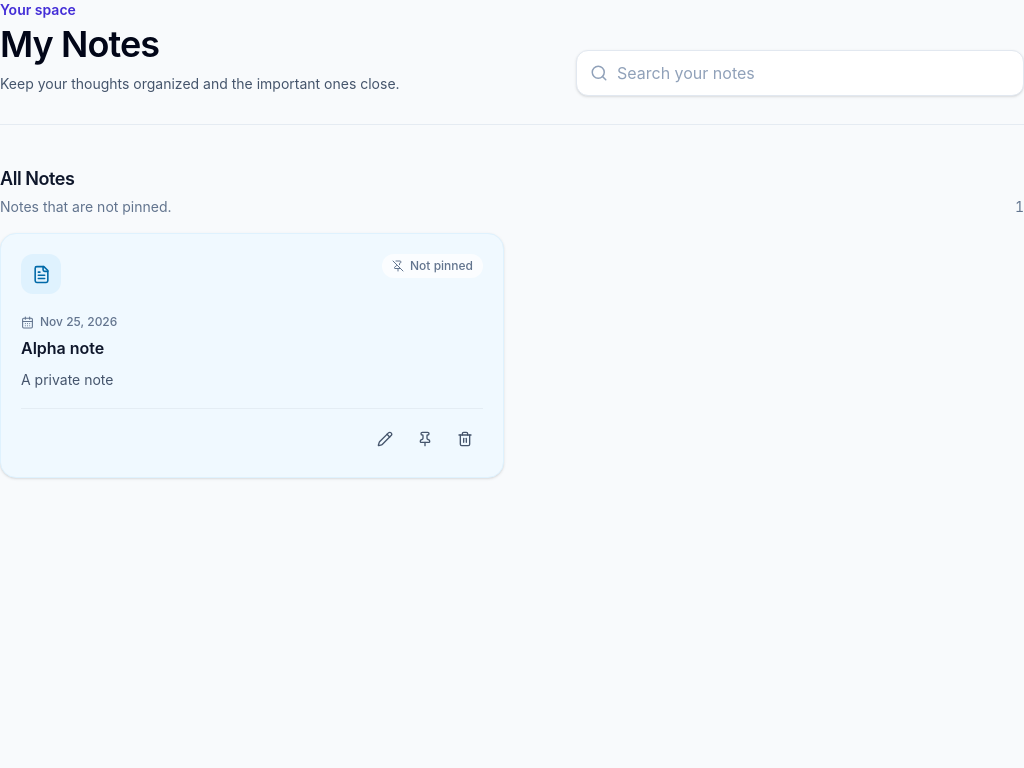
Test: Dashboard › keeps a note visible and reports a failed deletion
The image size is (1024, 768).
Click the button named "Delete Alpha note" at [465, 439], box [447,421,483,457]
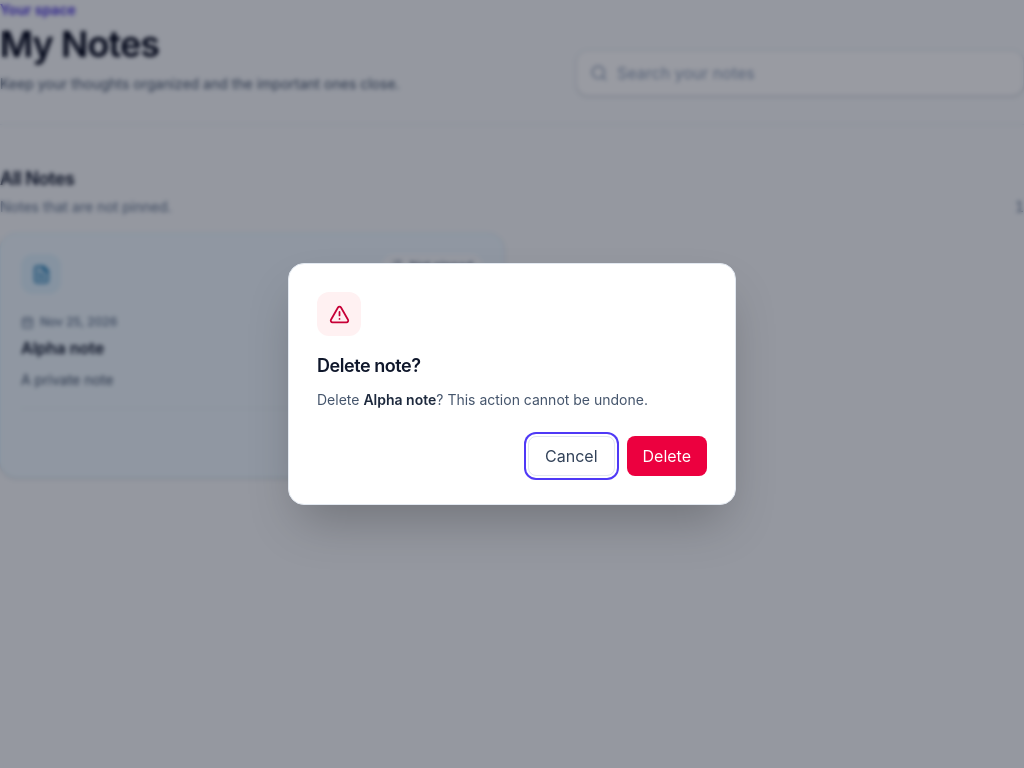
Click the button "Delete" at [667, 456], box [626,436,707,476]
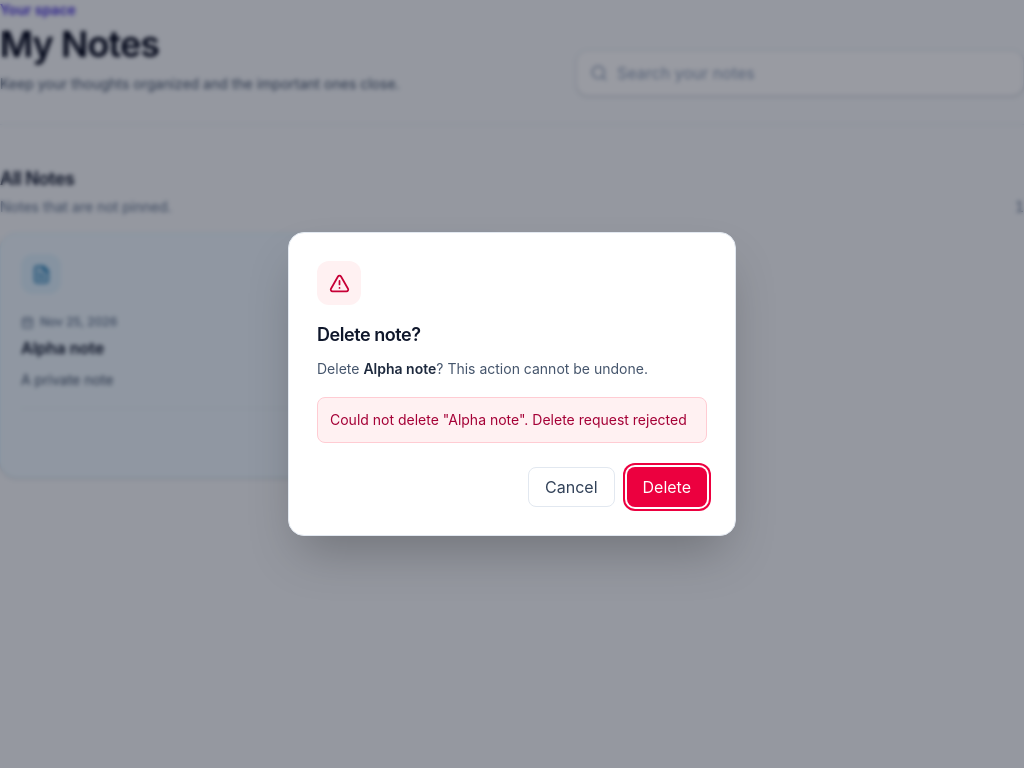
Expected: the heading "Alpha note" is shown, [21,338,104,358]
Expected: the message reads "Could not delete \"Alpha note\". Delete request rejected", [330,411,687,428]
